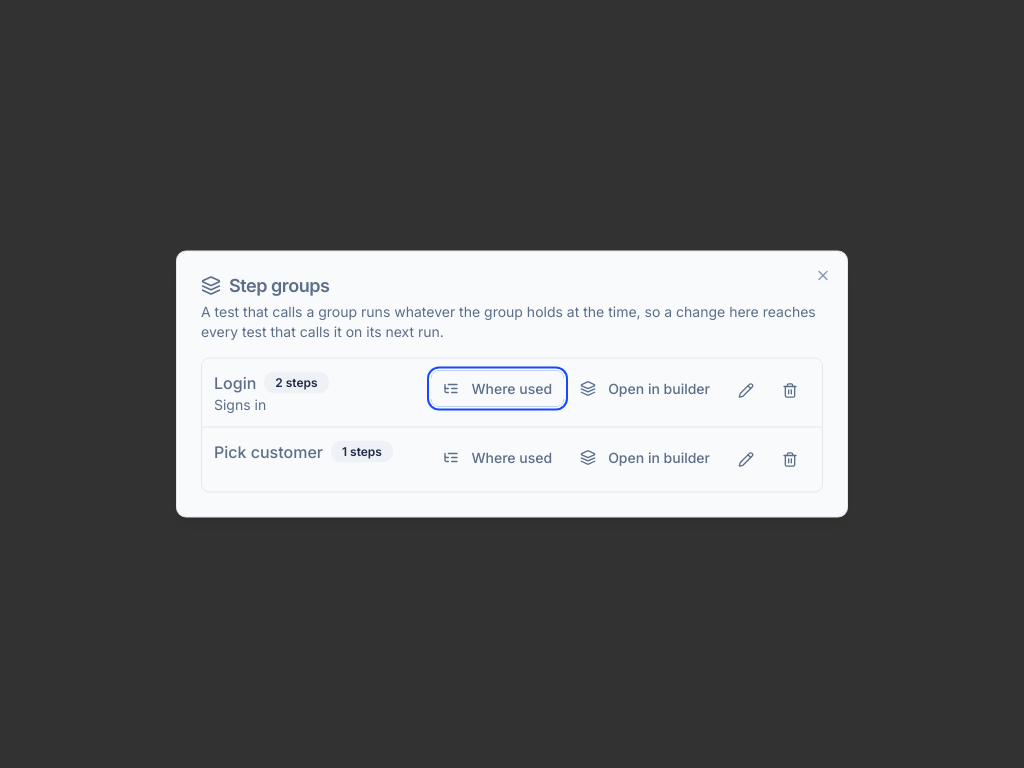
Test: StepGroupsManager › cannot replace steps with an empty builder, and says what to do instead
The image size is (1024, 768).
What coordinates should you click on to do the following:
click the button named "Edit" in the row of "2 steps"
I would click on:
 (746, 390)
Its box is [726,370,766,410].
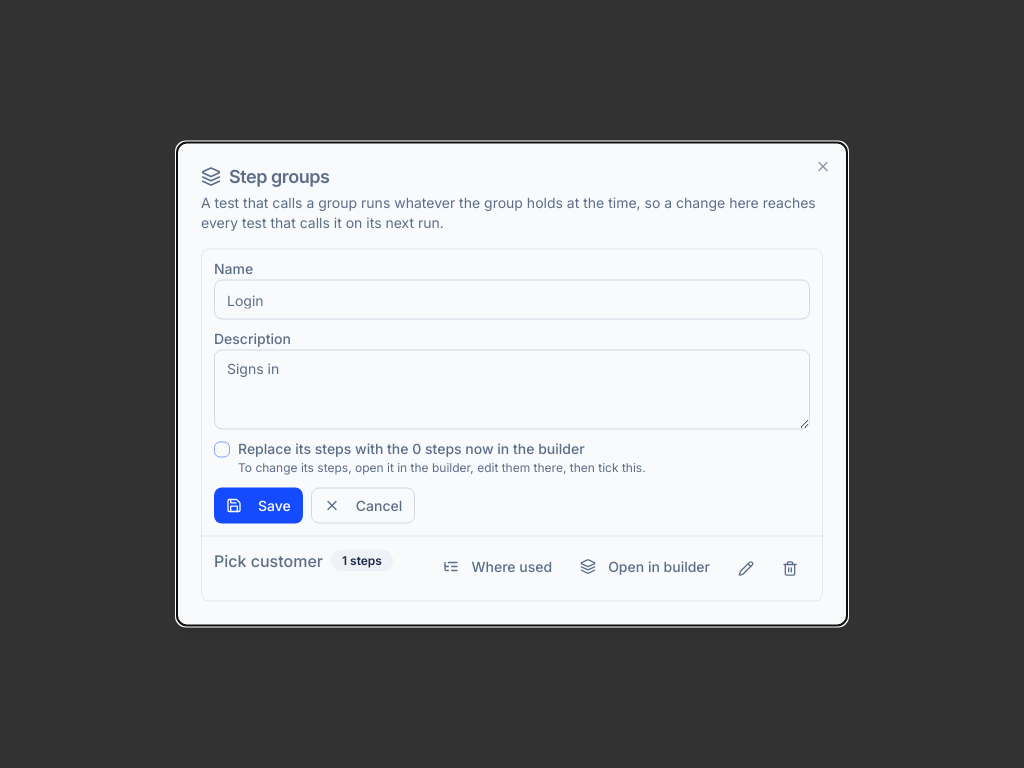
Check: the checkbox named "Replace its steps with the 0 steps now in the builder" is disabled, box [214,442,230,458]
Check: the text "open it in the builder, edit them there" is shown, box [238,460,646,474]
